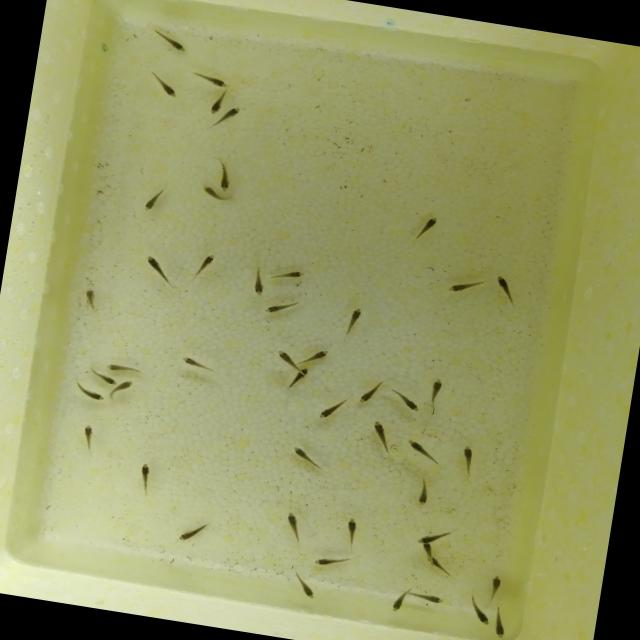fingerling: (266, 345, 303, 371), (152, 79, 188, 104), (309, 400, 340, 428), (341, 304, 370, 332), (136, 252, 168, 277), (364, 419, 392, 447), (454, 442, 484, 468), (488, 274, 520, 298), (74, 421, 102, 448), (285, 444, 319, 466), (422, 378, 453, 402), (436, 280, 476, 298), (158, 35, 192, 56), (340, 512, 362, 544), (394, 393, 426, 415), (76, 288, 105, 312), (466, 605, 496, 628), (275, 266, 307, 286), (218, 103, 244, 127), (410, 482, 432, 510), (260, 298, 288, 320), (194, 250, 222, 272), (173, 352, 207, 370), (135, 459, 155, 488), (487, 616, 511, 640), (294, 580, 318, 604), (204, 96, 228, 120), (78, 385, 108, 404), (486, 572, 508, 596), (110, 376, 134, 398), (174, 526, 200, 546), (292, 365, 318, 385), (307, 346, 333, 366), (311, 554, 343, 570), (197, 180, 220, 202), (247, 276, 269, 298), (408, 532, 440, 547), (402, 438, 432, 454), (202, 74, 232, 90), (211, 173, 234, 193), (282, 510, 302, 532), (356, 386, 378, 406), (420, 213, 440, 235), (422, 557, 453, 571), (98, 361, 131, 374), (418, 592, 448, 606), (388, 592, 406, 614), (414, 542, 442, 556), (142, 192, 158, 214), (95, 372, 116, 387)
